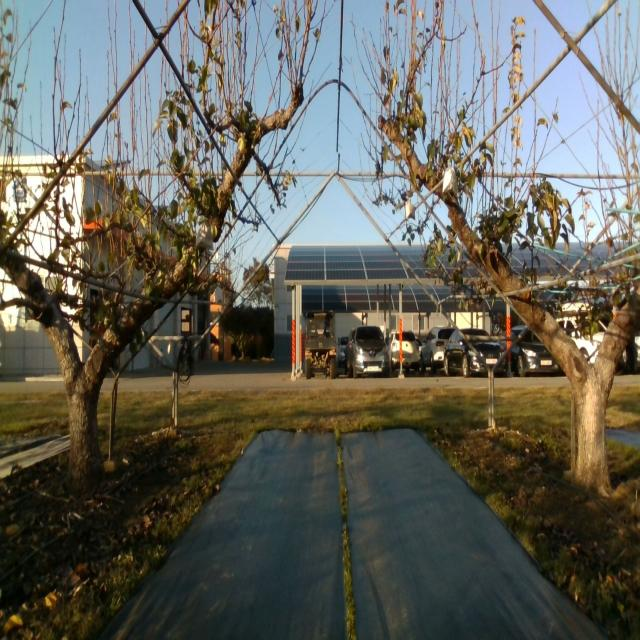pearbags: (195, 220, 214, 251), (443, 164, 458, 196)
